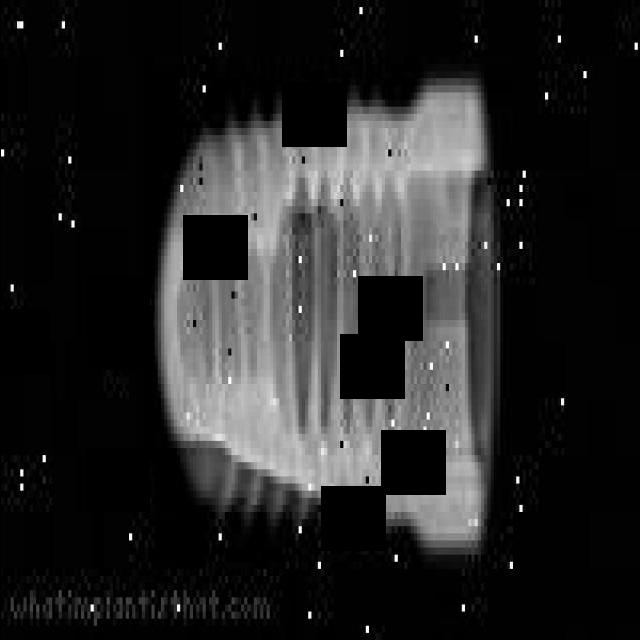Root canal obturation: (147, 71, 496, 562)
